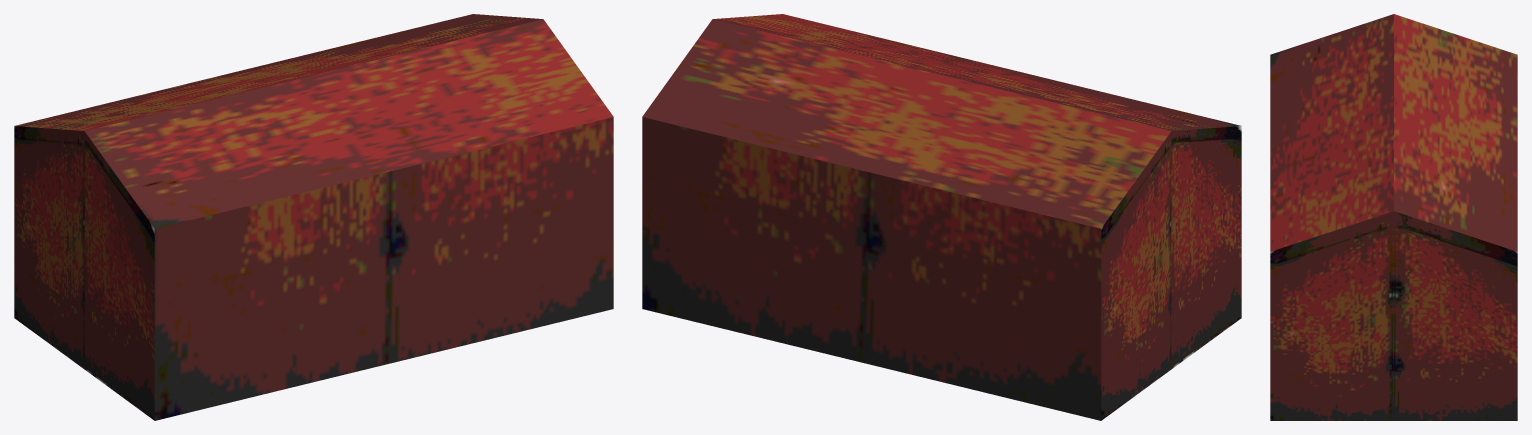
File: garage01.fbx
3 renders of one model, left to right at view 1: azimuth 30°, elevation 25°; view 2: azimuth 150°, elevation 25°; view 3: azimuth 270°, elevation 25°, orthographic. The views are drawn at different scales.
Parts seen in each view (by area): view 1: Cube.003; view 2: Cube.003; view 3: Cube.003.
Part boxes in pixels (x1,y1,x2,y2): Cube.003: (14, 14, 613, 420); Cube.003: (642, 14, 1241, 420); Cube.003: (1270, 14, 1517, 420).
Size of the model in its own units: 285 by 142 by 151.
1 material, 1 textured.
